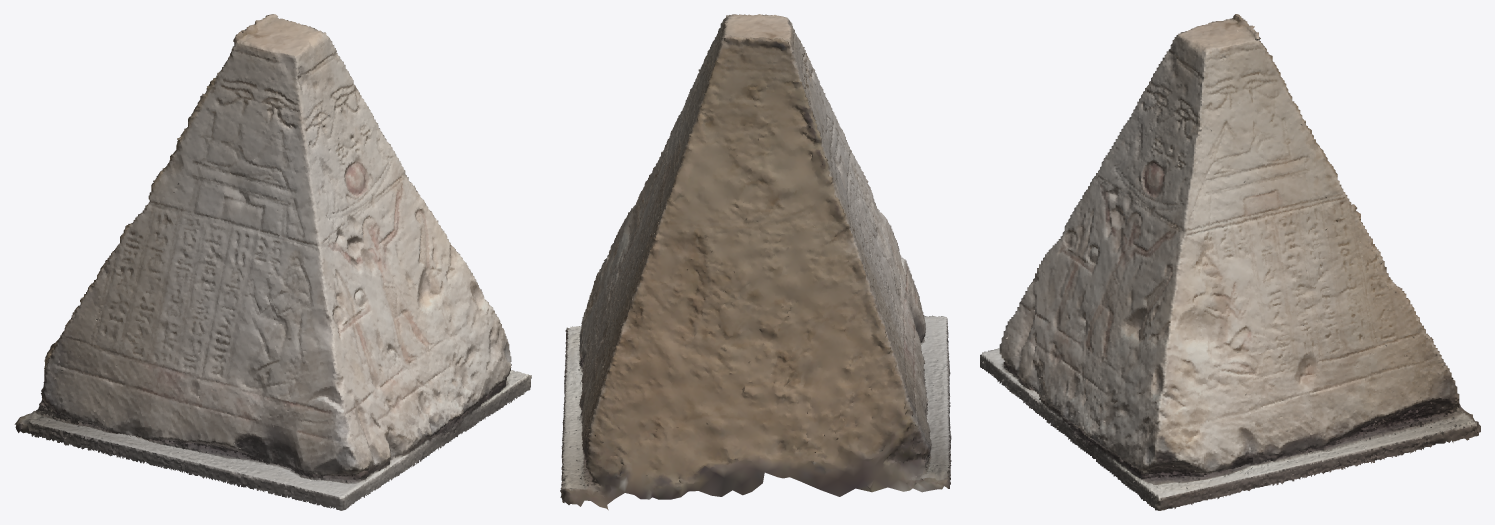
The picture shows the model from 3 angles, left to right: view 1: azimuth 30°, elevation 25°; view 2: azimuth 150°, elevation 25°; view 3: azimuth 270°, elevation 25°; orthographic projection. The views are drawn at different scales.
Visible parts, largest first — view 1: Object_2; view 2: Object_2; view 3: Object_2.
Part boxes in pixels (<box>): Object_2: <box>14,14,531,510</box>; Object_2: <box>560,14,951,510</box>; Object_2: <box>980,14,1480,510</box>.
Size of the model in its own units: 28.6 by 23.89 by 28.6.
